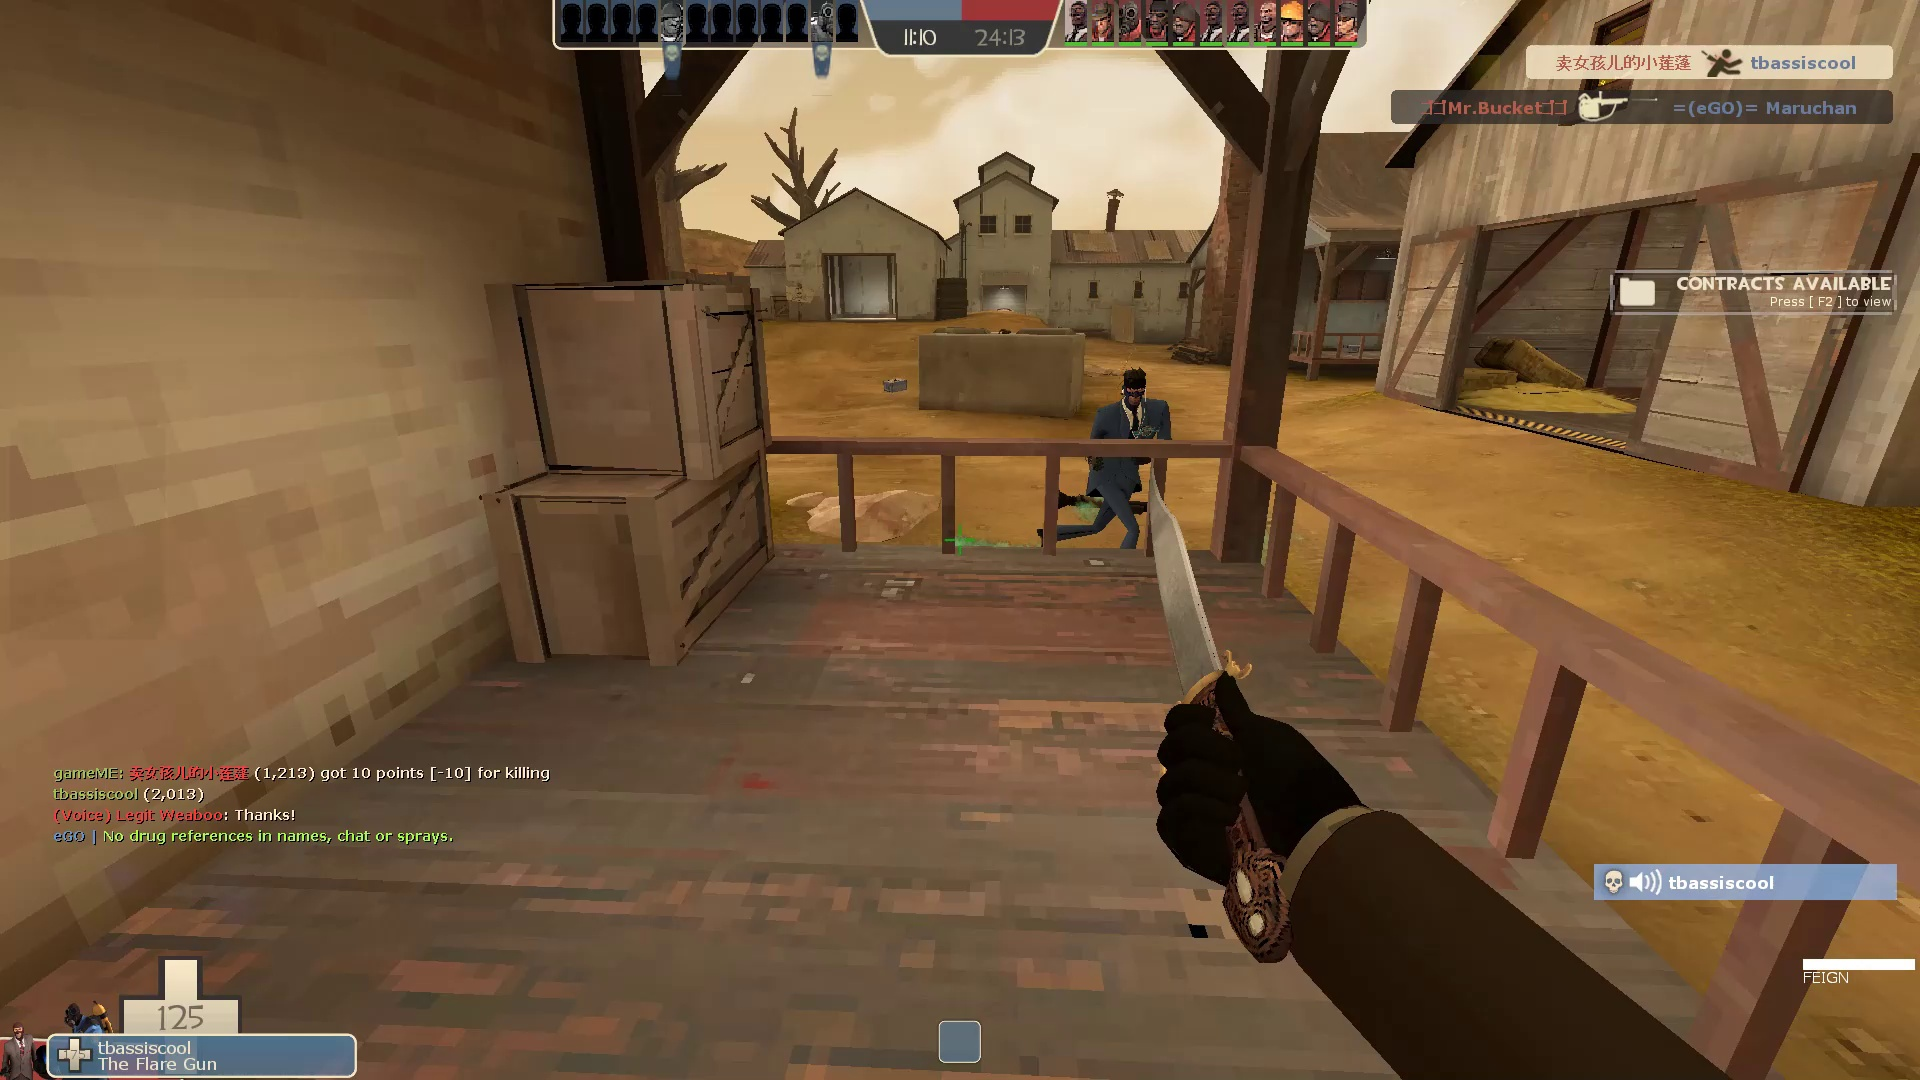blu_spy: (1033, 361, 1185, 574)
